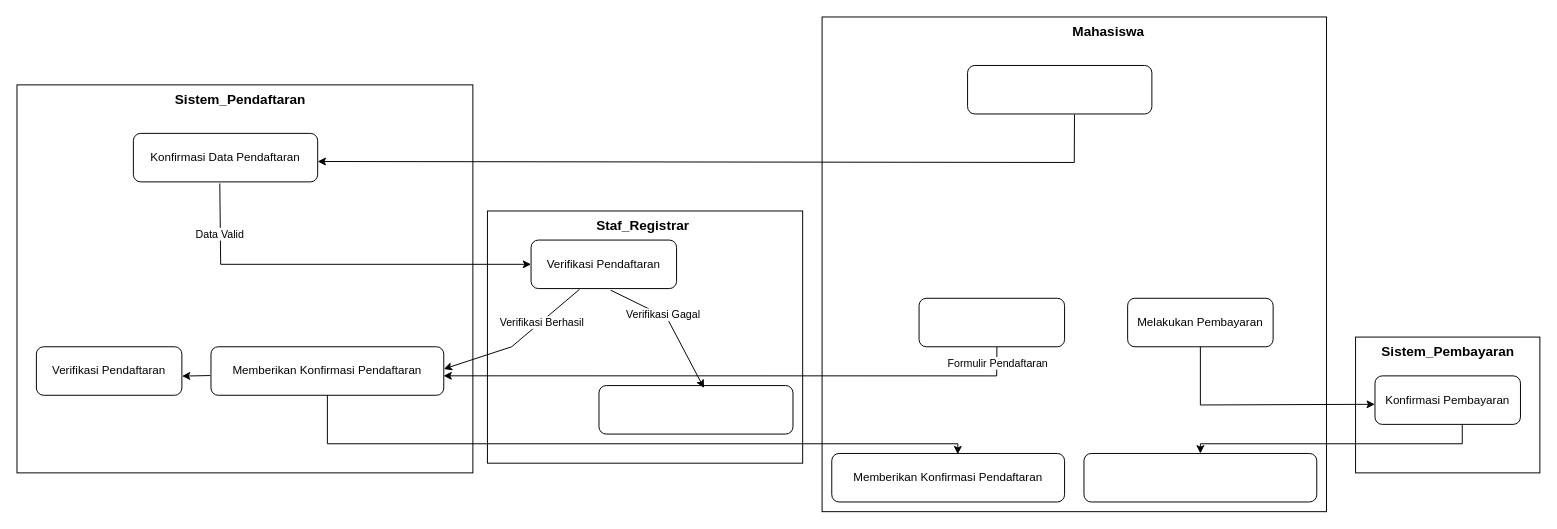
This 1557x529 diagram has some shape labels left out. The centre of each missing label's shape, as x and y in pixels:
"Memberikan Pesan Kesalahan" belongs at point (695, 409).
"Menerima Konfirmasi Pembayaran" belongs at point (1200, 477).
"Mengisi Formulir Pendaftaran" belongs at point (1059, 89).
"Submit Pendaftaran" belongs at point (991, 322).
